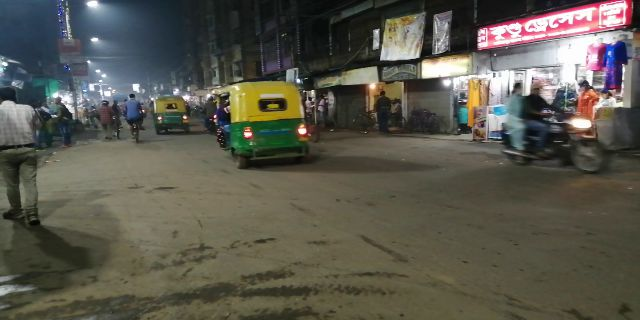Autorickshaw: (220, 77, 316, 166), (149, 94, 197, 134)
Cycle: (123, 91, 147, 144)
Motorbike: (502, 79, 612, 175)
